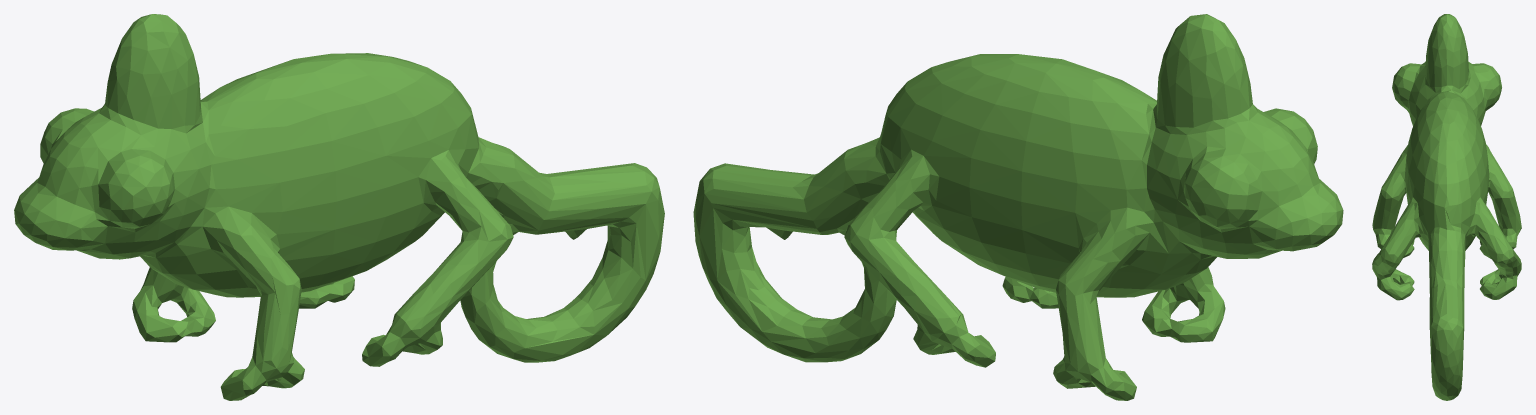
Rendered from NEW_RECOVERY_056_LOD1.fbx.
3 renders of one model, left to right at view 1: azimuth 30°, elevation 25°; view 2: azimuth 150°, elevation 25°; view 3: azimuth 270°, elevation 25°, orthographic. The views are drawn at different scales.
Visible parts, largest first — view 1: Chameleon_solid; view 2: Chameleon_solid; view 3: Chameleon_solid.
Boxes of the visible parts, x1=… form: Chameleon_solid: x1=14, y1=14, x2=664, y2=400; Chameleon_solid: x1=693, y1=14, x2=1343, y2=400; Chameleon_solid: x1=1372, y1=14, x2=1521, y2=400.
Size of the model in its own units: 540 by 184 by 356.
